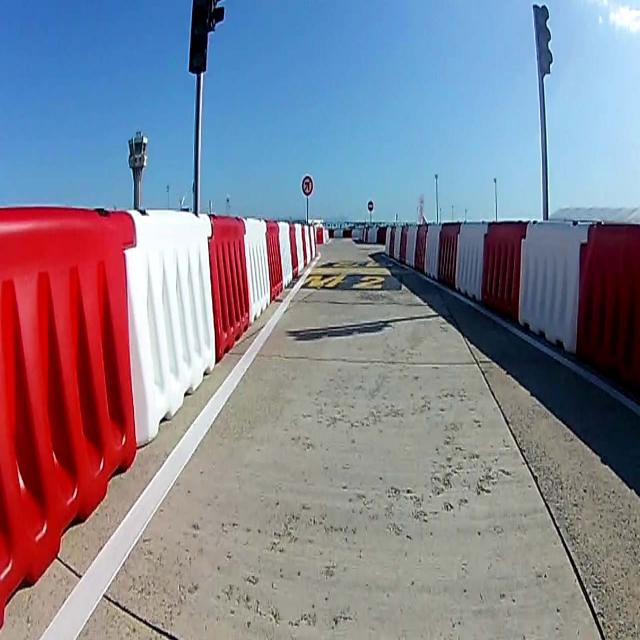girisyok: (368, 200, 373, 212)
soladonulmez: (302, 176, 312, 196)
